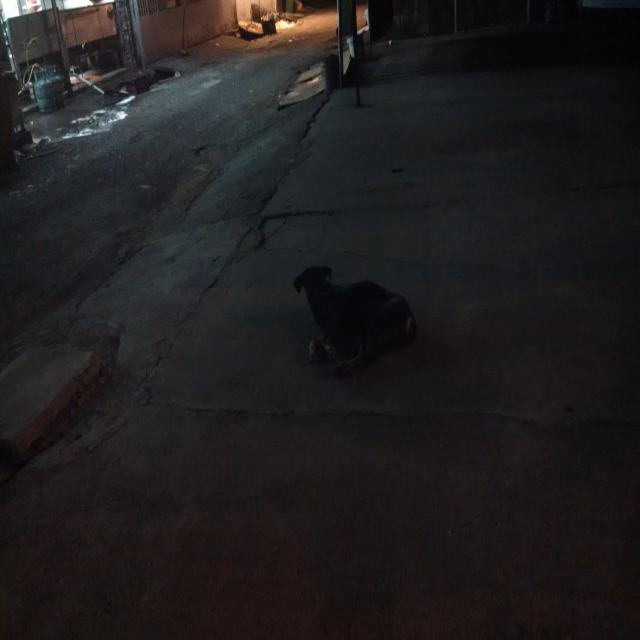Dog: (295, 264, 419, 372)
